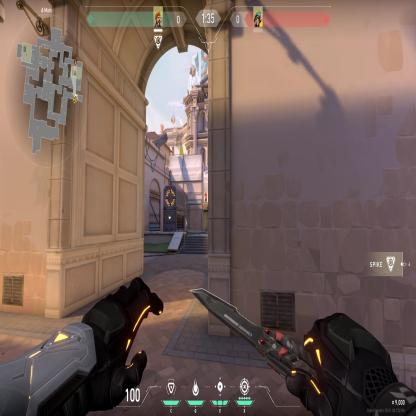enemy: (204, 191, 207, 203)
